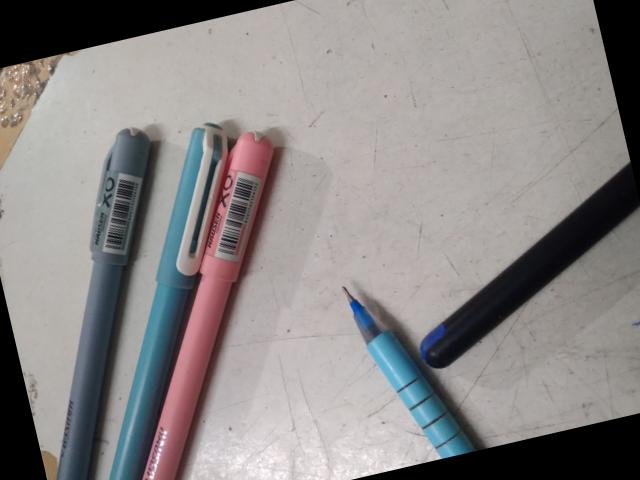PEN: (0, 114, 403, 319), (0, 49, 386, 182), (24, 338, 233, 480), (122, 398, 336, 480)
